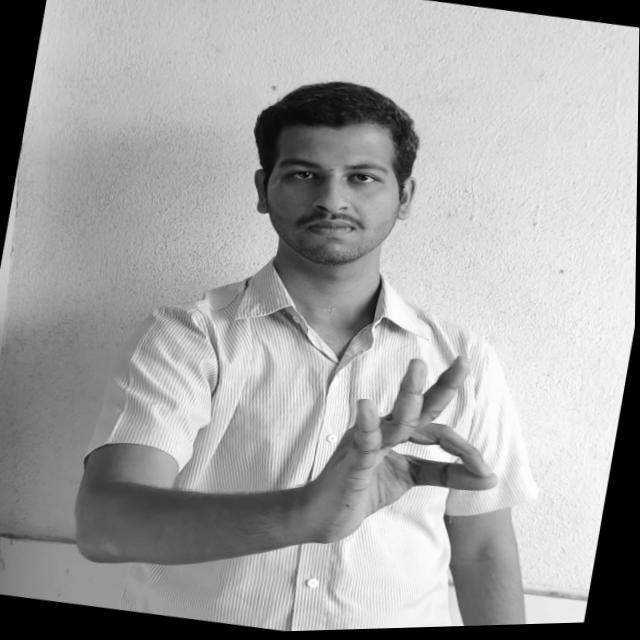Superb: (326, 342, 520, 559)
